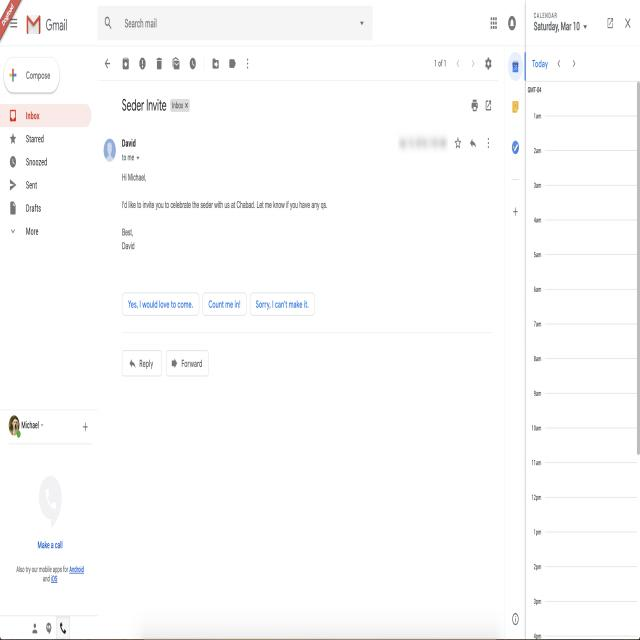button: (0, 411, 98, 446), (0, 126, 91, 151), (0, 197, 92, 220), (0, 151, 92, 173), (0, 174, 92, 196), (0, 221, 92, 243), (4, 57, 60, 93), (0, 104, 91, 126), (122, 293, 199, 316), (22, 8, 72, 42), (250, 293, 315, 315), (637, 81, 640, 456), (166, 352, 208, 376), (123, 351, 161, 377), (202, 294, 246, 316), (428, 49, 452, 77), (485, 7, 503, 39), (507, 131, 524, 163), (480, 49, 498, 78), (504, 7, 520, 39), (508, 197, 524, 225), (508, 92, 523, 120), (508, 53, 522, 82), (468, 92, 482, 120), (466, 130, 481, 156), (6, 9, 20, 36), (620, 11, 635, 35), (185, 53, 201, 75), (482, 130, 495, 157), (452, 130, 465, 156), (483, 92, 495, 120), (603, 11, 617, 35), (453, 49, 464, 79), (152, 53, 167, 75), (56, 616, 70, 639), (42, 616, 56, 639), (136, 53, 150, 76), (224, 54, 240, 74), (208, 54, 224, 74), (169, 54, 184, 75), (103, 139, 116, 162), (119, 54, 133, 75), (468, 49, 478, 78), (171, 99, 190, 113), (29, 616, 41, 638), (102, 54, 114, 75), (8, 416, 20, 437), (510, 608, 521, 630), (102, 13, 114, 33), (242, 53, 252, 73), (80, 418, 91, 436), (358, 14, 367, 32), (570, 55, 577, 72), (556, 56, 562, 70), (184, 101, 188, 110)
field: (98, 7, 372, 40)
